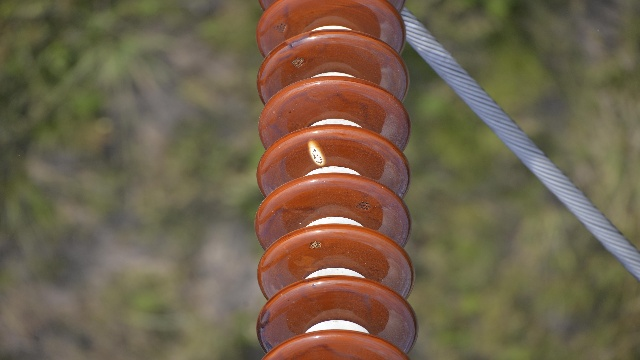insulator_unspecified: (254, 0, 420, 359)
pollution_flashover_local: (307, 139, 326, 167)
